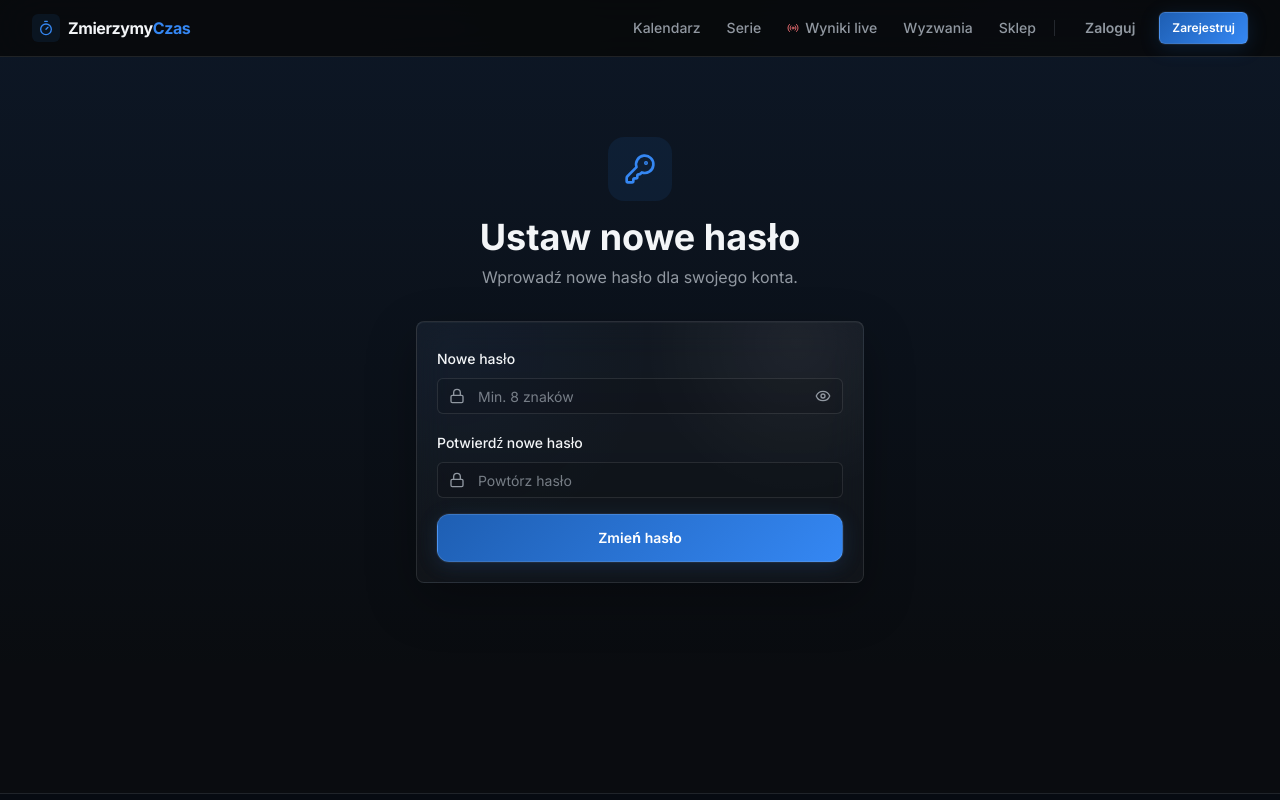
Scenario: ResetPasswordPage › shows the invalid-link view when the API rejects the token
Type "NoweHaslo123" into the password field with placeholder "Min. 8 znaków" at coordinates (640, 396), box [437,378,843,414]
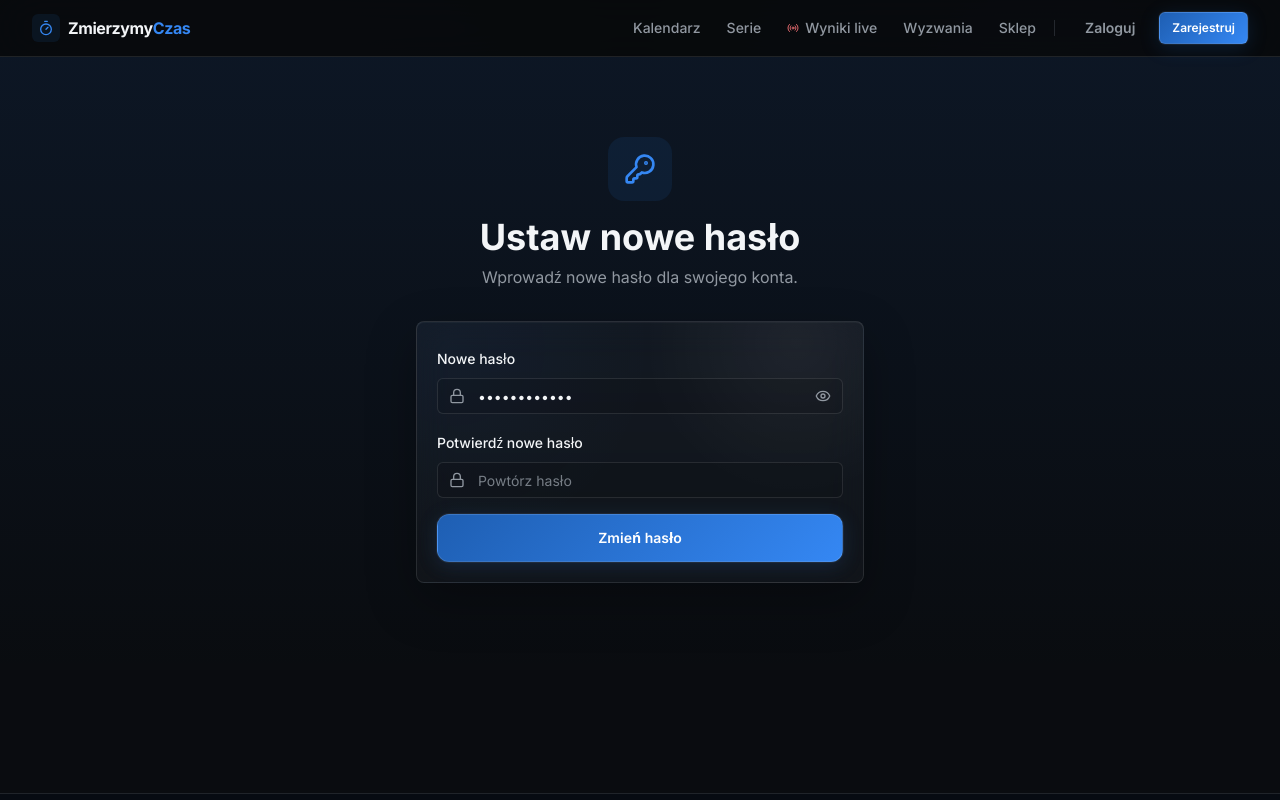
Type "NoweHaslo123" into the password field with placeholder "Powtórz hasło" at coordinates (640, 480), box [437,462,843,498]
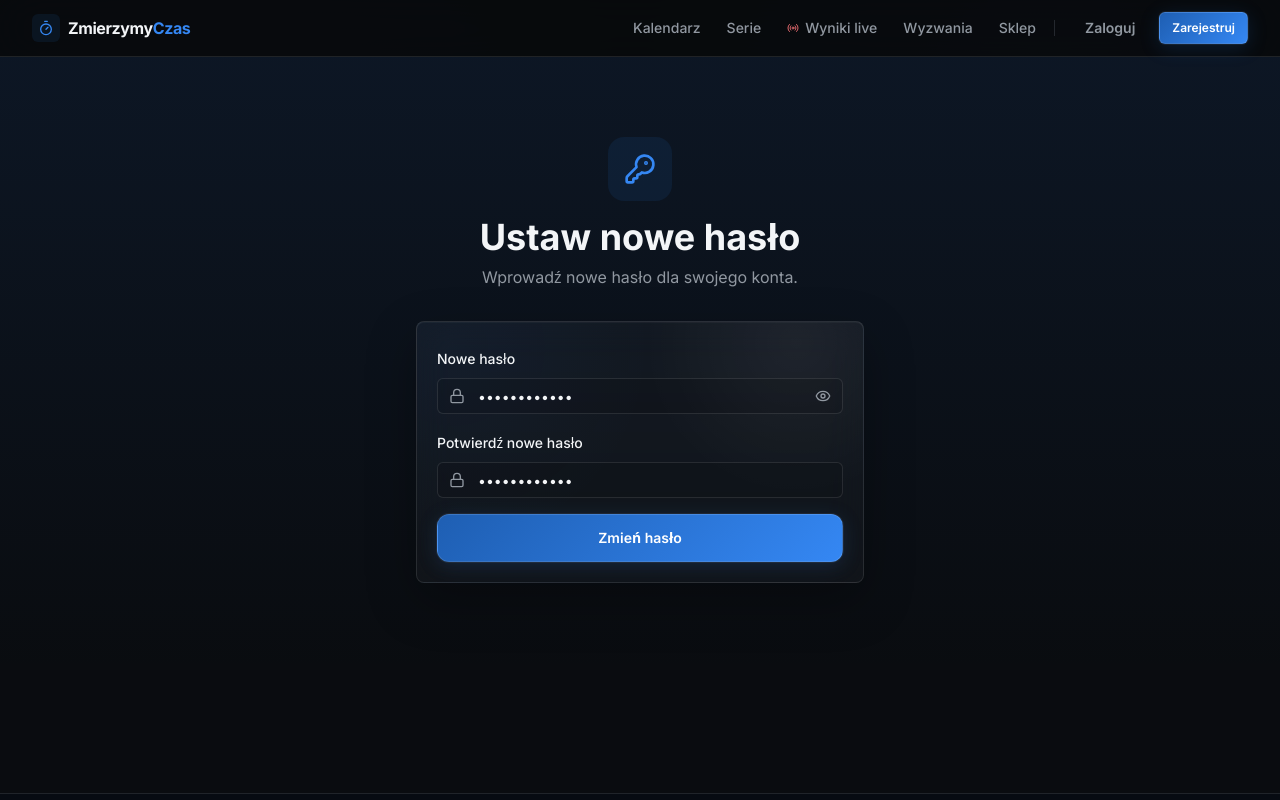
Click the button "Zmień hasło" at coordinates (640, 538), box [437,514,843,562]
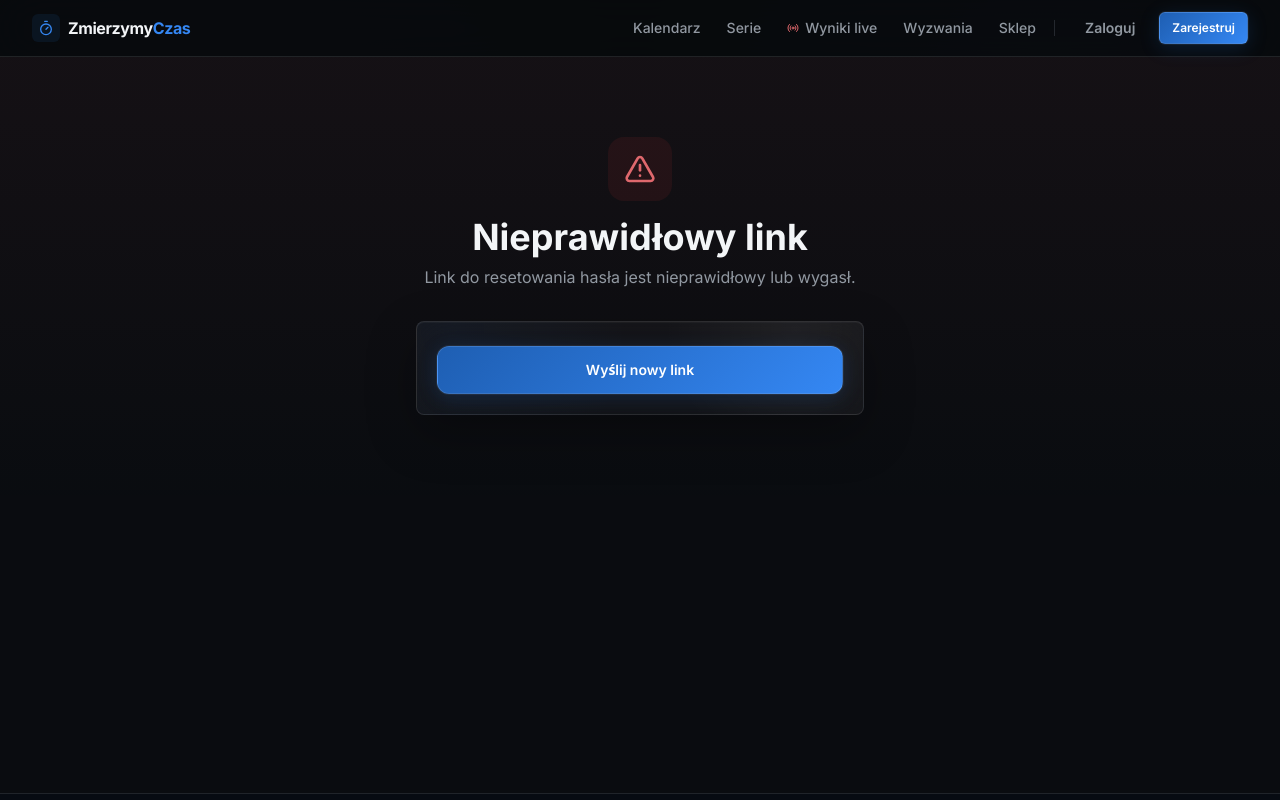
Expected: the heading "Nieprawidłowy link" is shown, [472,215,808,259]
Expected: the link "Wyślij nowy link" is shown, [437,346,843,394]
